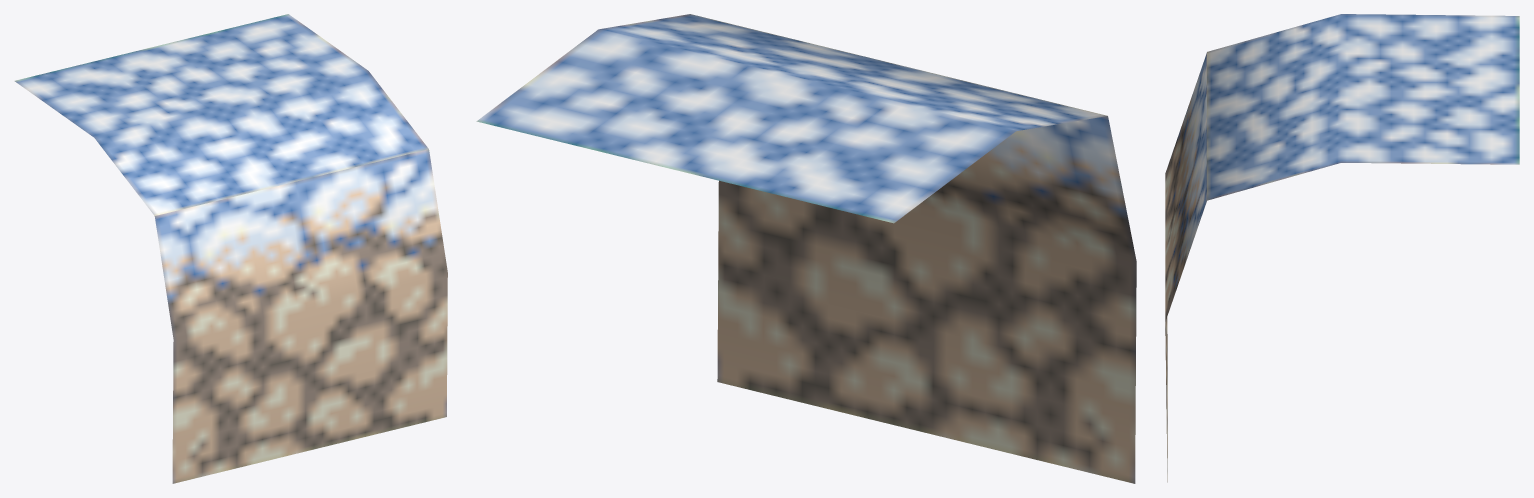
File: snowSTile_groundEdge_lower.fbx
The picture shows the model from 3 angles, left to right: view 1: azimuth 30°, elevation 25°; view 2: azimuth 150°, elevation 25°; view 3: azimuth 270°, elevation 25°; orthographic projection. The views are drawn at different scales.
Parts seen in each view (by area): view 1: snowSTile_groundEdge_lower; view 2: snowSTile_groundEdge_lower; view 3: snowSTile_groundEdge_lower.
Part boxes in pixels (bbox=[...]): snowSTile_groundEdge_lower: bbox=[14, 14, 447, 483]; snowSTile_groundEdge_lower: bbox=[476, 14, 1136, 483]; snowSTile_groundEdge_lower: bbox=[1165, 14, 1519, 482].
Bounding box in the file's own units: 1 × 1.01 × 1.01.
